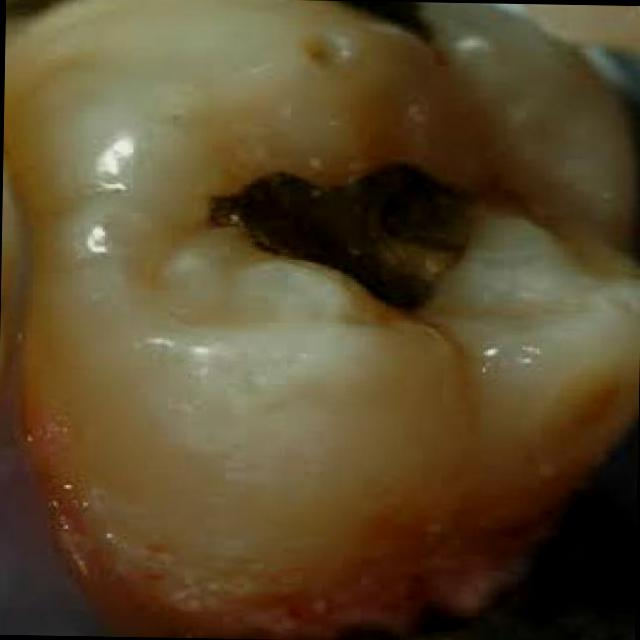caries: (188, 1, 494, 342)
